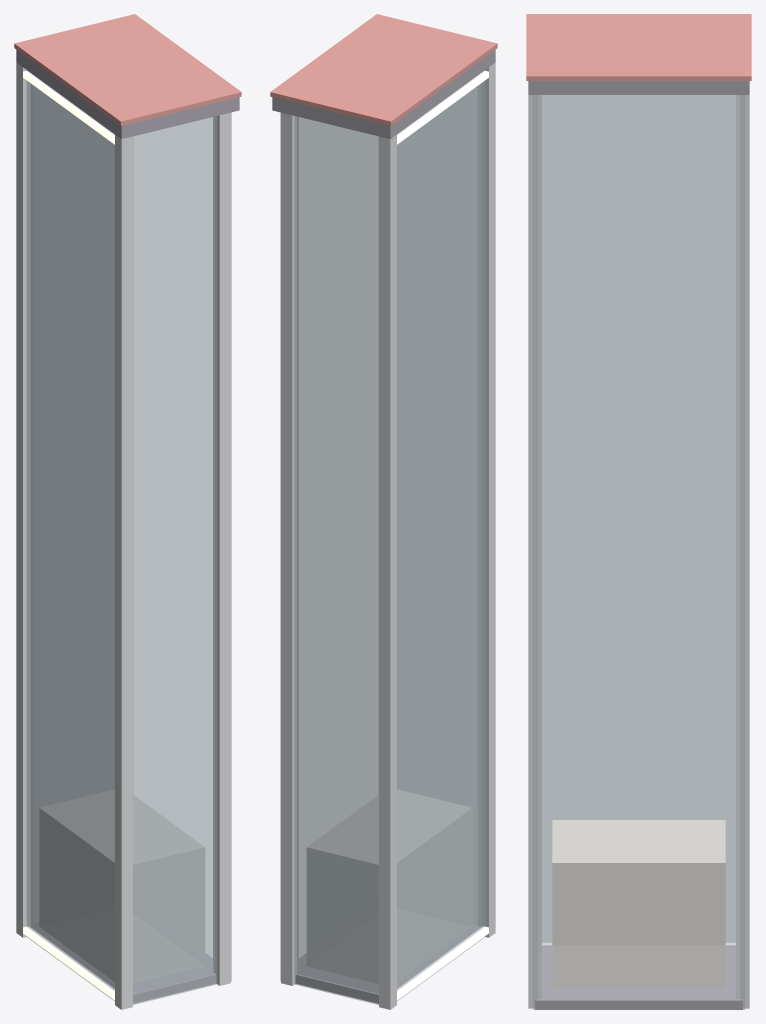
The model's file is Lift.glb.
3 renders of one model, left to right at view 1: azimuth 30°, elevation 25°; view 2: azimuth 150°, elevation 25°; view 3: azimuth 270°, elevation 25°, orthographic. The views are drawn at different scales.
Visible parts, largest first — view 1: Lift_1, Lift_2, Lift_4, Lift_3, Lift_0, Lift_5; view 2: Lift_1, Lift_2, Lift_4, Lift_3, Lift_0, Lift_5; view 3: Lift_1, Lift_4, Lift_2, Lift_3, Lift_0.
Boxes of the visible parts, x1,y1,x2,y2 form: Lift_1: (27, 70, 231, 1004); Lift_2: (16, 62, 230, 1009); Lift_4: (39, 789, 204, 983); Lift_3: (14, 14, 241, 125); Lift_0: (16, 50, 239, 1003); Lift_5: (23, 70, 114, 1000); Lift_1: (280, 70, 484, 1004); Lift_2: (281, 62, 495, 1009); Lift_4: (307, 789, 472, 983); Lift_3: (270, 14, 497, 125); Lift_0: (272, 50, 495, 1003); Lift_5: (397, 70, 488, 1000); Lift_1: (532, 95, 745, 1009); Lift_4: (552, 820, 725, 988); Lift_2: (528, 95, 749, 1008); Lift_3: (526, 14, 751, 80); Lift_0: (528, 81, 749, 1009).
Size of the model in its own units: 8.5 by 59.75 by 13.
